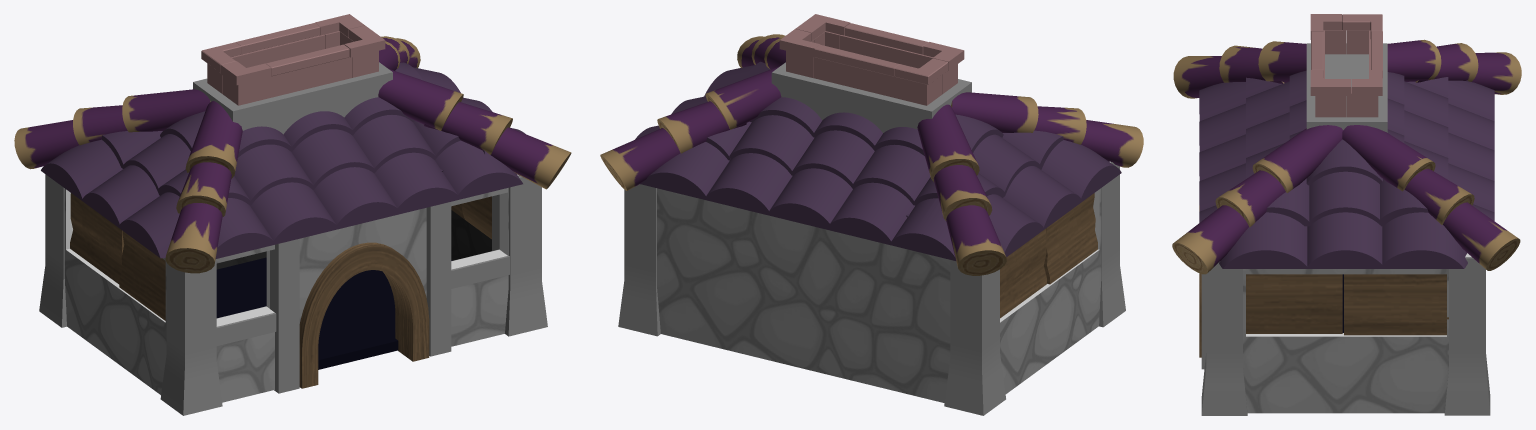
Rendered from ModelBuilding01.fbx.
3 renders of one model, left to right at view 1: azimuth 30°, elevation 25°; view 2: azimuth 150°, elevation 25°; view 3: azimuth 270°, elevation 25°, orthographic.
Parts seen in each view (by area): view 1: ModelBuilding01; view 2: ModelBuilding01; view 3: ModelBuilding01.
Part boxes in pixels (x1,y1,x2,y2): ModelBuilding01: (14, 14, 571, 415); ModelBuilding01: (600, 14, 1143, 415); ModelBuilding01: (1172, 14, 1521, 415).
Bounding box in the file's own units: 1541 × 984 × 1127.
Materials: 6 (3 with a texture image).
